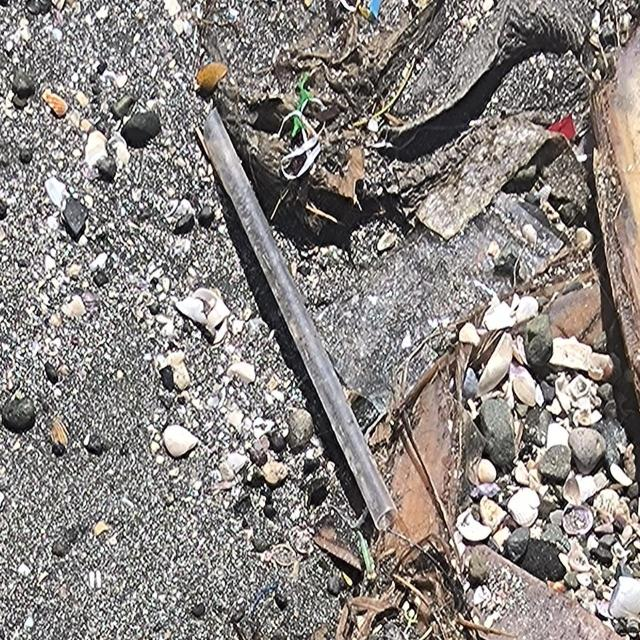plastic_waste: (204, 107, 399, 533)
